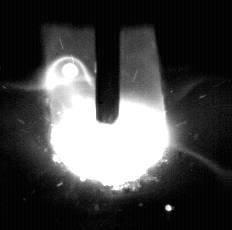arame: (95, 0, 121, 126)
poca: (49, 0, 172, 230)
